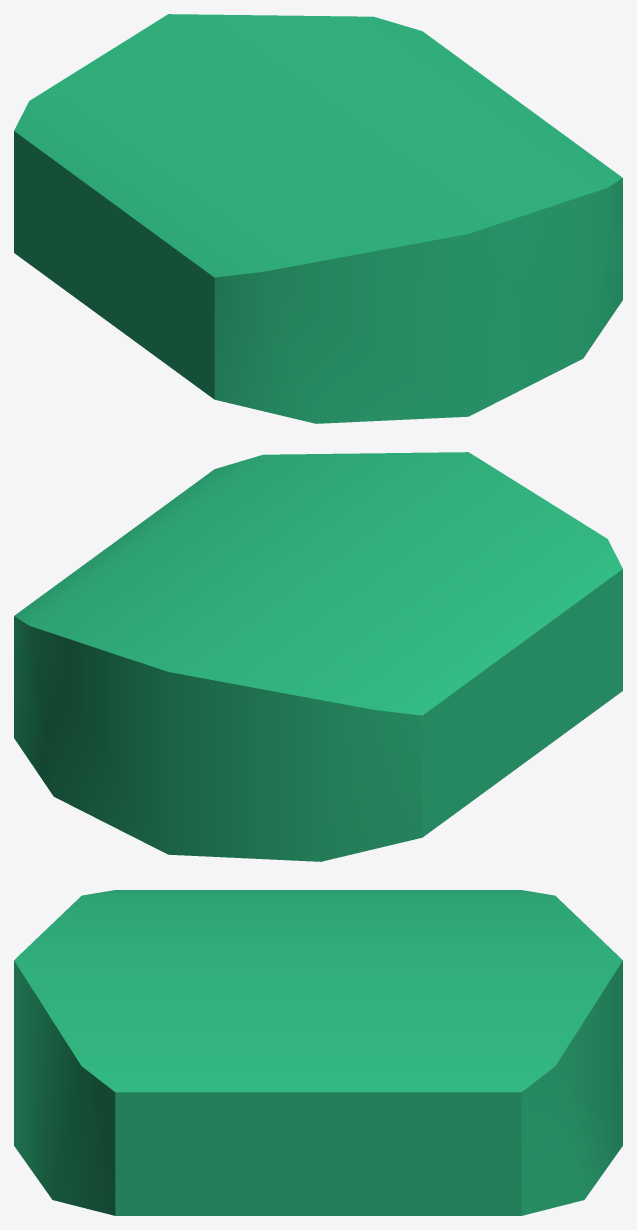
3 views of the same model, one above another, from view 1: azimuth 30°, elevation 25°; view 2: azimuth 150°, elevation 25°; view 3: azimuth 270°, elevation 25° (orthographic).
Visible parts, largest first — view 1: Box001; view 2: Box001; view 3: Box001.
Part boxes in pixels (x1,y1,x2,y2): Box001: (14,14,622,423); Box001: (14,452,622,861); Box001: (14,890,622,1215).
Size of the model in its own units: 18.41 by 7.87 by 23.44.
